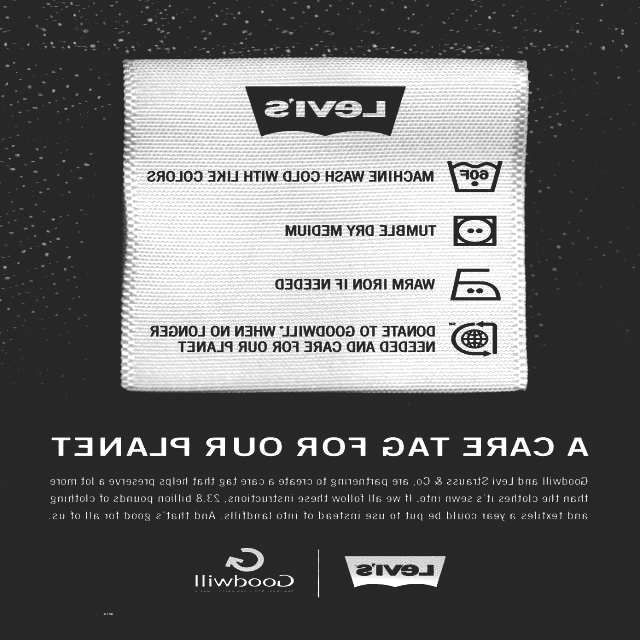30C: (444, 152, 504, 197)
iron_medium: (446, 263, 503, 306)
tumble_dry_medium: (448, 213, 502, 251)
